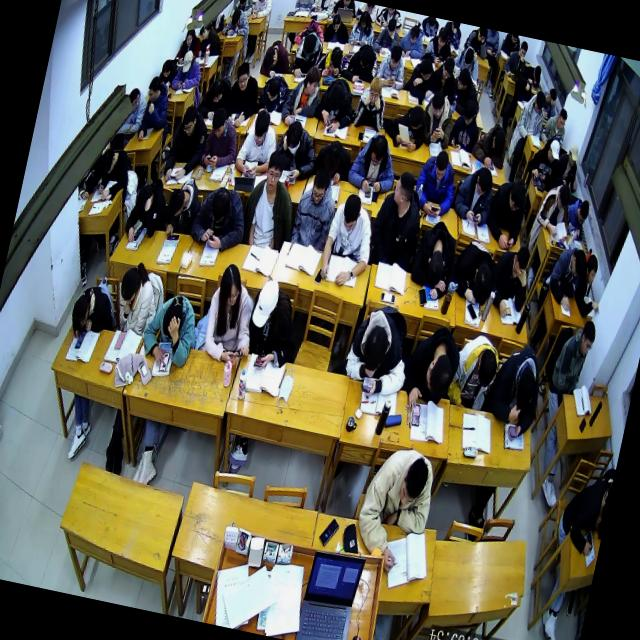bow: (481, 337, 552, 445), (396, 318, 466, 418), (137, 286, 202, 369), (186, 180, 253, 258), (405, 215, 463, 302), (446, 237, 502, 310), (268, 116, 322, 184), (157, 171, 206, 244), (67, 279, 120, 341), (544, 243, 590, 312), (310, 75, 360, 137), (571, 250, 612, 320), (382, 99, 431, 156), (310, 136, 356, 189), (468, 119, 512, 173), (446, 66, 486, 120), (194, 70, 234, 124), (339, 40, 382, 88), (254, 71, 292, 121), (258, 36, 294, 82), (405, 52, 437, 100), (312, 40, 348, 81), (450, 42, 484, 79), (293, 16, 328, 50), (220, 5, 253, 40), (538, 84, 560, 121), (157, 53, 180, 88), (511, 72, 535, 104), (522, 62, 544, 88), (229, 0, 256, 20)
down: (248, 275, 282, 333), (420, 349, 456, 402), (358, 322, 392, 376), (510, 366, 540, 414), (158, 298, 188, 342), (206, 184, 234, 226), (472, 346, 500, 388), (338, 192, 364, 236), (308, 164, 334, 207), (116, 264, 142, 306), (319, 138, 345, 178), (505, 177, 530, 216), (68, 294, 92, 334), (508, 244, 533, 282), (282, 119, 306, 158), (366, 131, 390, 170), (250, 109, 272, 150), (324, 80, 348, 114), (165, 186, 188, 221), (208, 105, 230, 141), (134, 181, 156, 216), (430, 147, 450, 184), (364, 74, 384, 110), (179, 104, 199, 139), (568, 248, 588, 282), (428, 88, 448, 121), (208, 74, 228, 106), (473, 168, 493, 199), (98, 146, 118, 176), (488, 126, 508, 156), (459, 98, 479, 128), (356, 42, 375, 72), (264, 74, 283, 104), (144, 75, 162, 106), (545, 138, 564, 167), (386, 42, 404, 72), (438, 54, 456, 83), (300, 31, 318, 59), (327, 44, 345, 71), (574, 198, 590, 228), (530, 88, 548, 114), (564, 142, 580, 170), (554, 106, 569, 134), (180, 48, 195, 74), (406, 23, 422, 45), (356, 9, 370, 32), (159, 58, 173, 80), (462, 46, 476, 68), (228, 7, 242, 28), (384, 18, 397, 40), (330, 14, 342, 34), (517, 38, 529, 58), (236, 0, 249, 9)
lookup: (396, 454, 432, 512), (261, 148, 288, 195), (577, 318, 598, 358), (582, 252, 601, 288), (233, 61, 253, 93), (184, 28, 196, 48)
sit: (347, 439, 441, 580), (338, 296, 420, 404), (196, 259, 268, 370), (238, 144, 308, 254), (364, 164, 432, 276), (239, 274, 307, 376), (315, 188, 381, 290), (444, 329, 504, 416), (288, 162, 344, 255), (554, 473, 612, 557), (160, 100, 213, 190), (546, 312, 598, 402), (110, 257, 165, 340), (484, 239, 537, 322), (480, 174, 532, 256), (344, 128, 404, 199), (409, 146, 464, 222), (231, 106, 283, 183), (122, 172, 172, 248), (278, 61, 326, 132), (450, 160, 500, 228), (197, 104, 244, 176), (222, 58, 265, 132), (136, 72, 176, 148), (533, 178, 579, 242), (91, 142, 135, 206), (416, 87, 459, 152), (350, 73, 391, 134), (446, 95, 486, 156), (523, 132, 565, 185), (288, 27, 326, 82), (551, 140, 586, 196), (514, 88, 550, 142), (374, 41, 411, 93), (169, 46, 206, 94), (426, 52, 462, 101), (120, 86, 150, 140), (559, 195, 591, 242), (538, 104, 570, 150), (348, 8, 380, 50), (422, 25, 454, 67), (396, 20, 428, 60), (372, 16, 403, 56), (321, 11, 353, 48), (196, 21, 225, 60), (502, 38, 530, 78), (176, 25, 203, 61), (250, 0, 275, 21)
